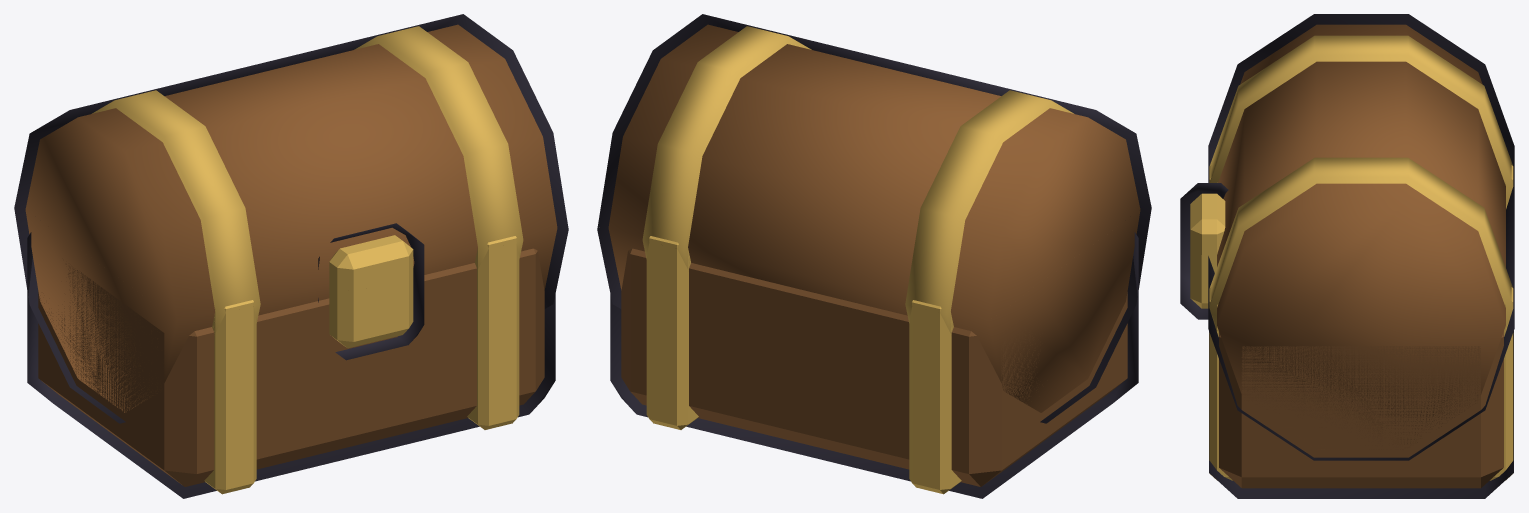
Rendered from chest.glb.
3 views of the same model, side by side, from view 1: azimuth 30°, elevation 25°; view 2: azimuth 150°, elevation 25°; view 3: azimuth 270°, elevation 25° (orthographic). The views are drawn at different scales.
Visible parts, largest first — view 1: chest_lid_mesh, chest; view 2: chest_lid_mesh, chest; view 3: chest_lid_mesh, chest.
Part boxes in pixels (x1,y1,x2,y2): chest_lid_mesh: [14, 14, 568, 320]; chest: [14, 205, 568, 498]; chest_lid_mesh: [597, 14, 1151, 320]; chest: [597, 205, 1151, 498]; chest_lid_mesh: [1180, 14, 1514, 325]; chest: [1180, 146, 1514, 498].
Bounding box in the file's own units: 1.15 × 0.9095 × 0.8793.
